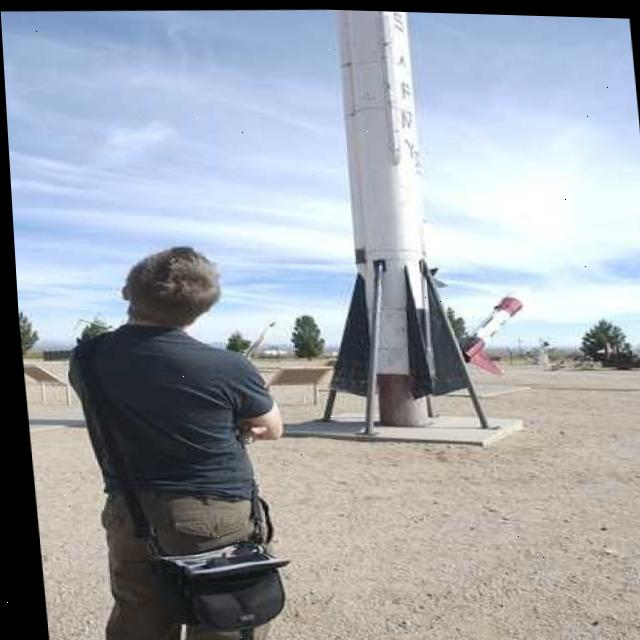missile: (308, 8, 480, 424)
